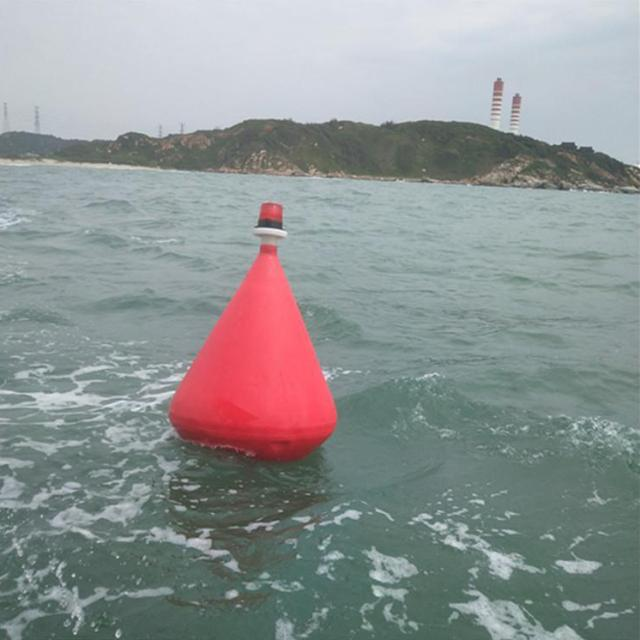buoy: (171, 196, 338, 454)
